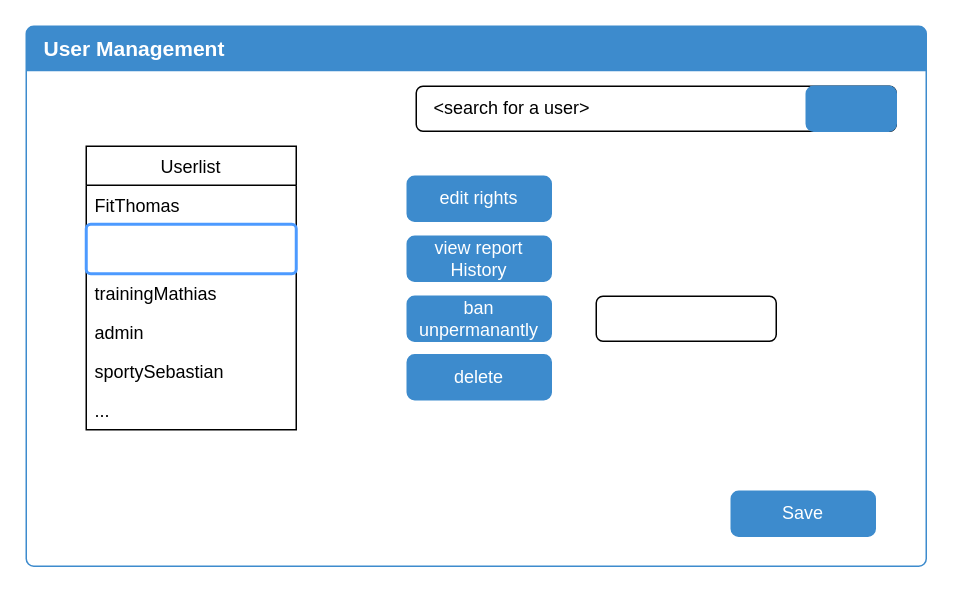
This 953x593 diagram has some shape labels left out. Each missing label, with the box of its shape:
<enter time>: (595, 295, 776, 341)
ajhbfdzesg: (84, 222, 297, 274)
search: (805, 85, 896, 131)
